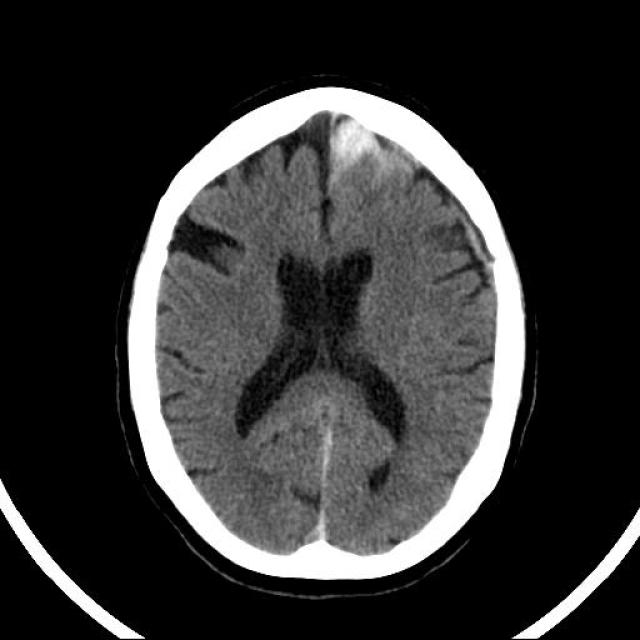Subdural: (306, 97, 445, 205)
